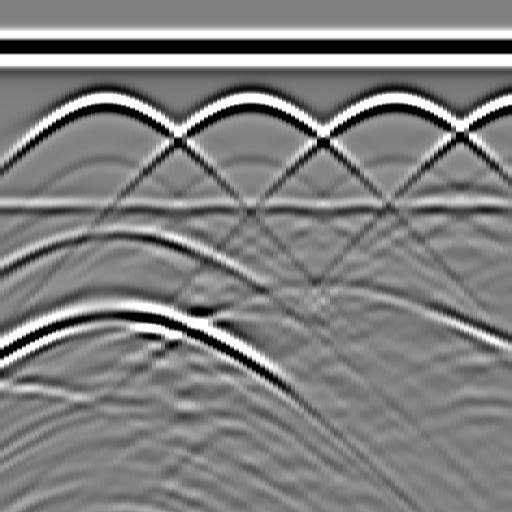grout_surface: (1, 193, 512, 223)
rebar: (84, 82, 124, 122), (228, 82, 268, 122), (372, 82, 412, 122), (502, 82, 512, 122)
rock_surface: (1, 286, 511, 389)
water_void: (85, 206, 145, 246)
